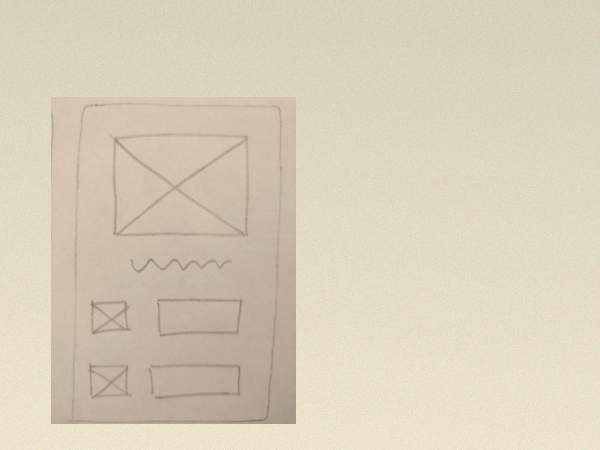image: (106, 128, 252, 243), (86, 298, 134, 339), (85, 362, 132, 403)
text: (125, 253, 232, 278)
text_input: (152, 296, 246, 343), (145, 359, 245, 402)
